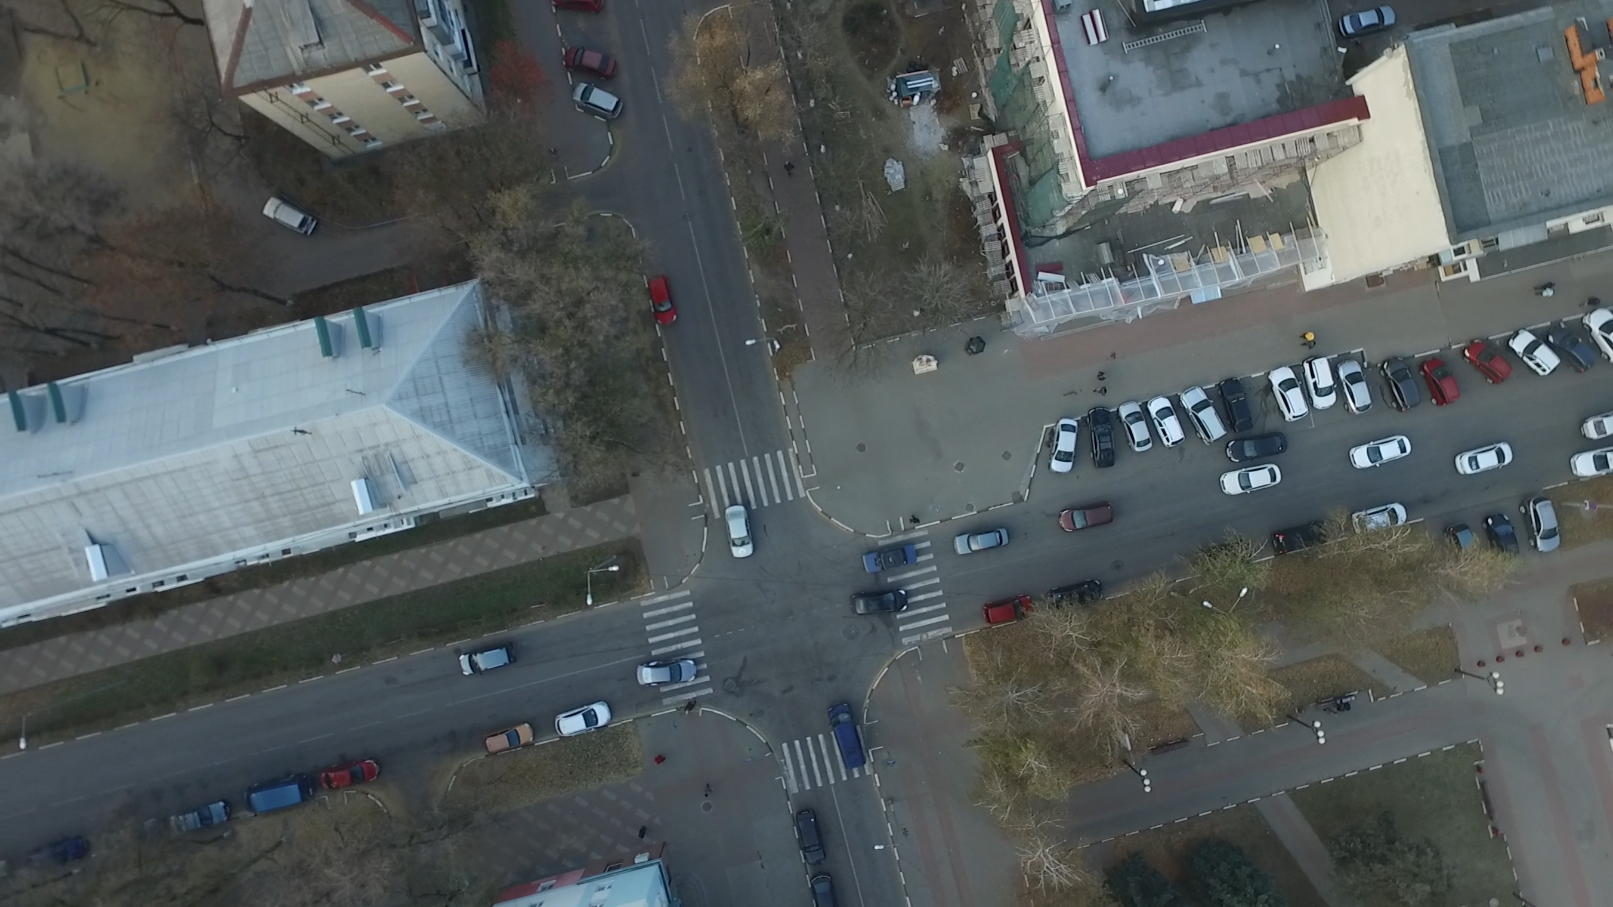car: (1180, 386, 1227, 449), (237, 777, 314, 814), (1508, 330, 1560, 383), (1549, 322, 1597, 377), (826, 704, 864, 773), (1380, 353, 1422, 414), (1463, 342, 1514, 392), (263, 194, 318, 239), (1518, 494, 1560, 552), (27, 834, 92, 868), (1349, 434, 1415, 468), (1270, 519, 1336, 553), (571, 76, 621, 120), (1336, 360, 1375, 416), (1268, 364, 1308, 419), (1421, 355, 1462, 408), (459, 645, 518, 680), (1147, 394, 1185, 449), (553, 701, 614, 735), (1303, 355, 1340, 411), (1337, 4, 1396, 40), (1221, 462, 1282, 495), (1484, 513, 1523, 565), (1218, 378, 1253, 433), (1118, 399, 1154, 452), (1044, 418, 1079, 472), (721, 504, 756, 558), (169, 803, 232, 833), (564, 42, 616, 78), (320, 760, 381, 790), (794, 807, 825, 866), (1058, 499, 1117, 530), (99, 821, 158, 851), (1352, 501, 1409, 532), (1456, 443, 1513, 474), (1088, 404, 1117, 466), (1444, 523, 1480, 570), (1196, 537, 1252, 568), (637, 661, 700, 688), (1046, 579, 1103, 608), (982, 592, 1036, 622), (951, 529, 1011, 556), (484, 723, 536, 754), (852, 589, 914, 615), (1226, 432, 1287, 457), (859, 545, 914, 573), (1570, 445, 1613, 478), (648, 275, 676, 323), (1578, 410, 1613, 445), (810, 870, 833, 907)
